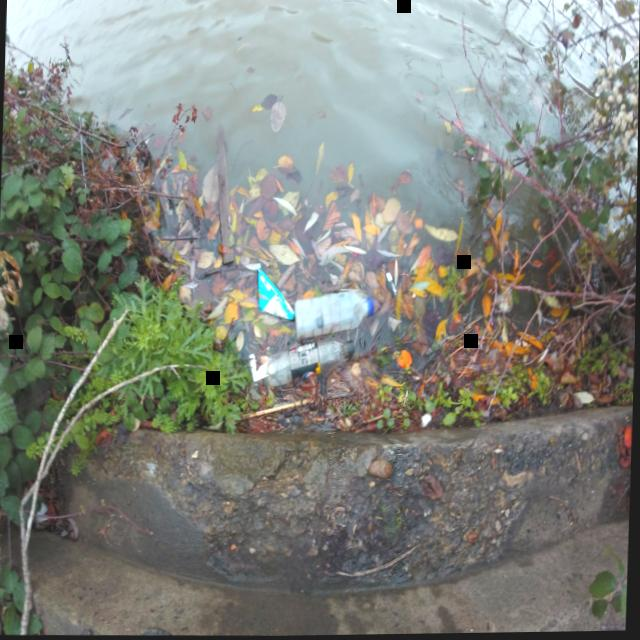Clear plastic bottle: (266, 337, 354, 386), (294, 289, 374, 340)
Crisp packet: (257, 269, 294, 320)
Plastic bottle cap: (368, 296, 374, 316)
Unlabeled litter: (358, 243, 388, 281), (248, 353, 269, 382), (388, 281, 397, 298), (387, 272, 392, 279)
